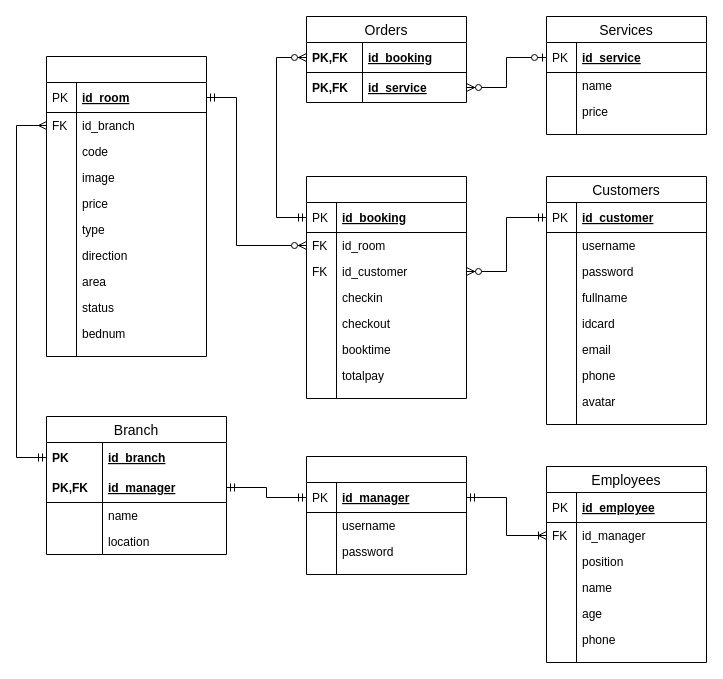
The diagram is 723 pixels wide and 679 high, and some of its shapes have lost their labels. Each missing label, with the box of its shape:
Bookings: (306, 176, 466, 398)
Managers: (306, 456, 466, 574)
Rooms: (46, 56, 206, 356)
